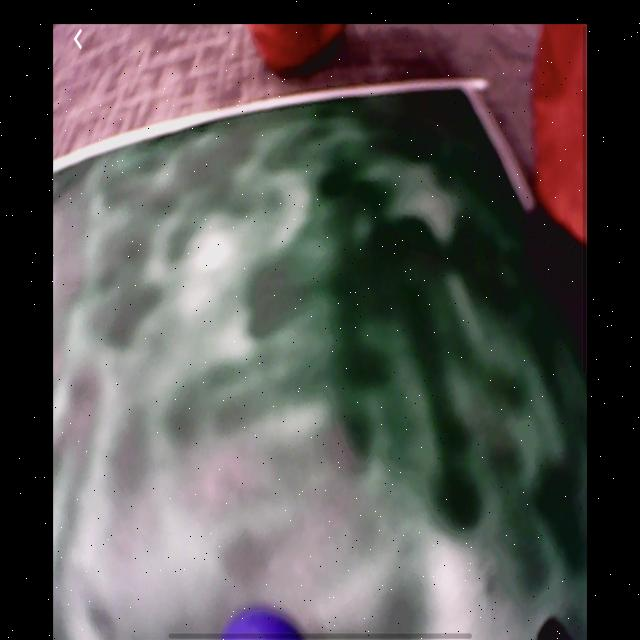ball: (224, 608, 305, 639)
